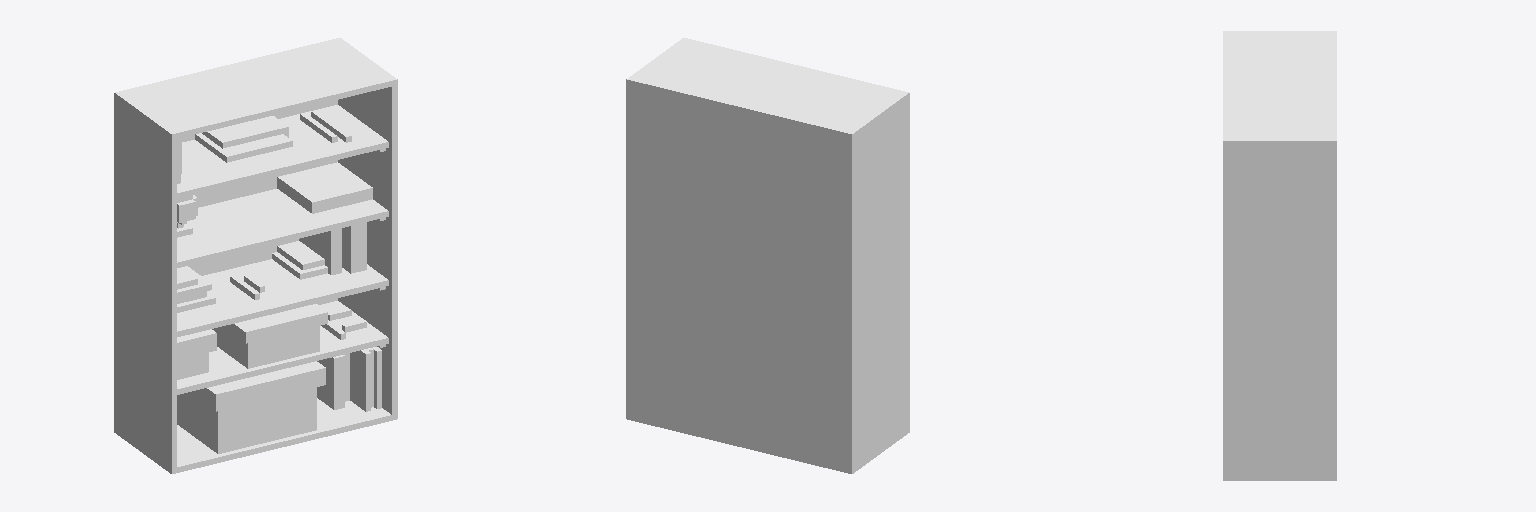
Rendered from shelf.obj.
3 views of the same model, side by side, from view 1: azimuth 30°, elevation 25°; view 2: azimuth 150°, elevation 25°; view 3: azimuth 270°, elevation 25° (orthographic).
Parts seen in each view (by area): view 1: object 1; view 2: object 1; view 3: object 1.
Part boxes in pixels (x1,y1,x2,y2): object 1: (114, 38, 397, 473); object 1: (626, 38, 909, 473); object 1: (1223, 31, 1336, 480).
Bounding box in the file's own units: 4.1 × 5.9 × 1.8.